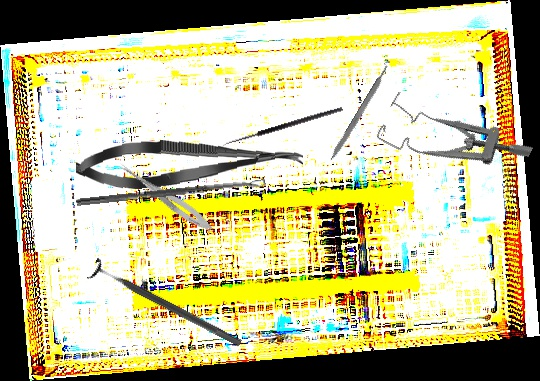Fixation Ring: (86, 256, 246, 356)
Hook Surgical: (222, 105, 345, 154)
Micro Scissor: (74, 133, 305, 192), (114, 159, 216, 236)
Scalpel Handle: (328, 63, 392, 164)
Speculum: (373, 79, 535, 205)
Surgical Spoon: (76, 179, 266, 207)
